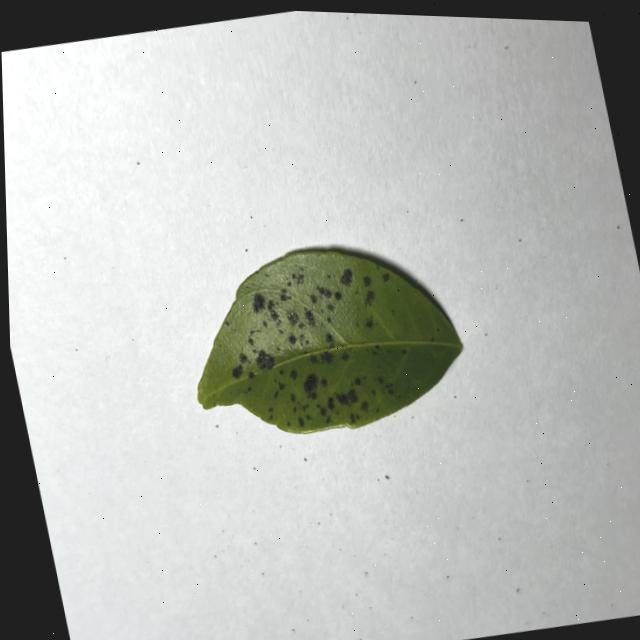sooty_mold: (197, 250, 461, 433)
